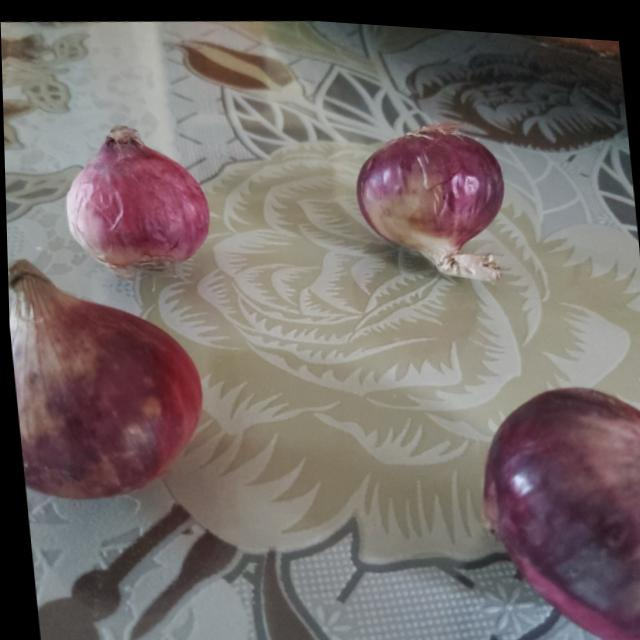onion: (6, 254, 209, 506), (470, 365, 640, 640), (60, 118, 212, 275), (349, 116, 508, 257)
